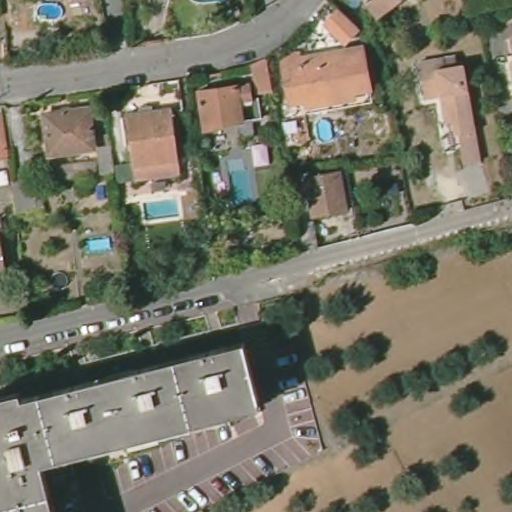pool: (222, 157, 261, 209), (137, 197, 190, 224), (78, 232, 119, 259), (31, 1, 67, 25), (313, 115, 336, 144)
